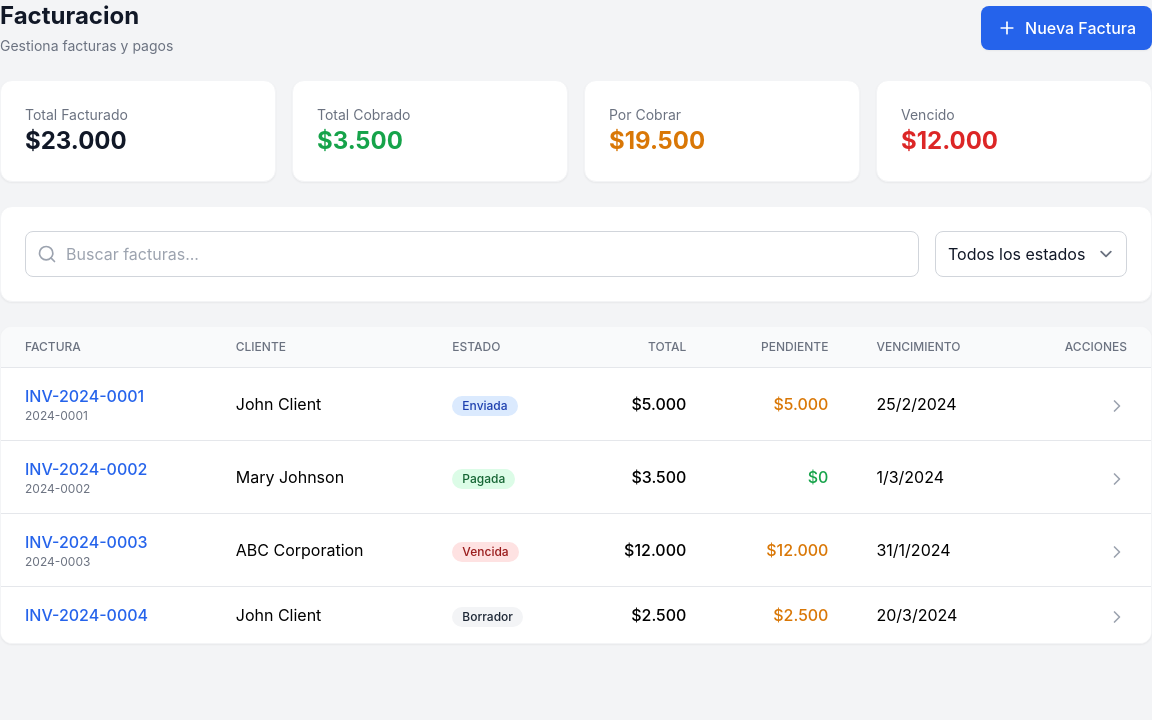
Invoices Page › Create Invoice Modal › should open create modal when clicking new invoice button
Expected: the field with placeholder "Buscar facturas..." is shown, [25,231,919,277]
# Find and click the button using userEvent
Click the button "Nueva Factura" at (1067, 28), box [981,6,1151,50]
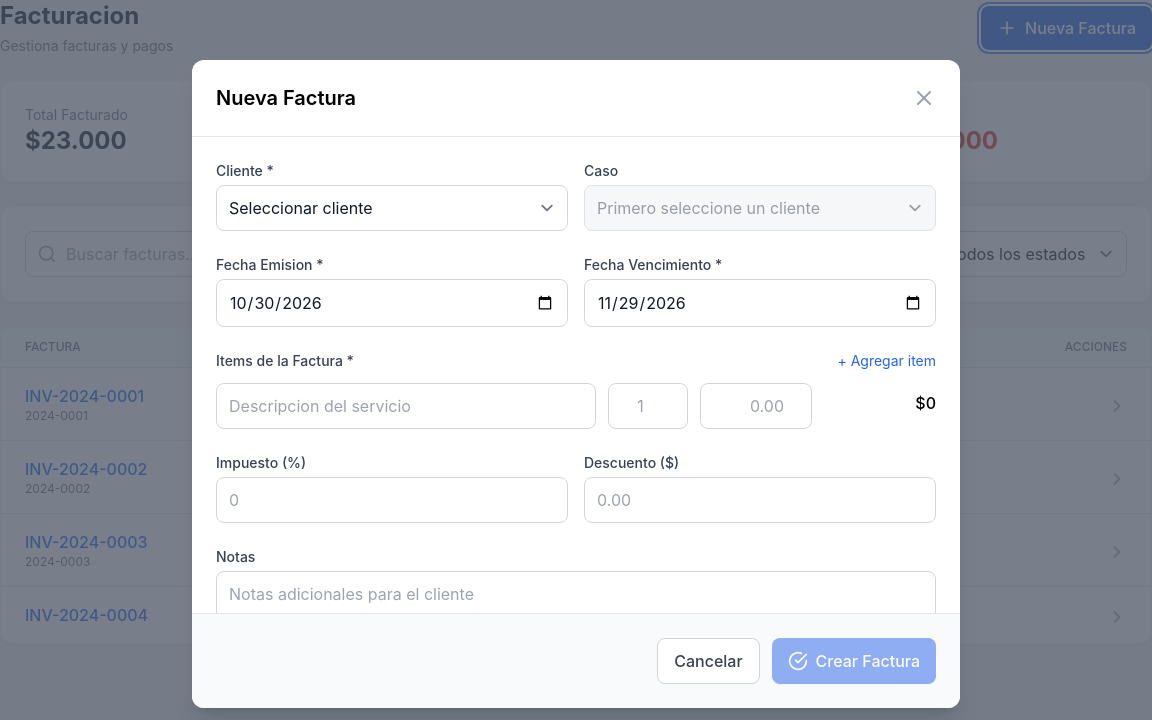
Now the heading "Nueva Factura" is shown, box [216,84,356,112]
